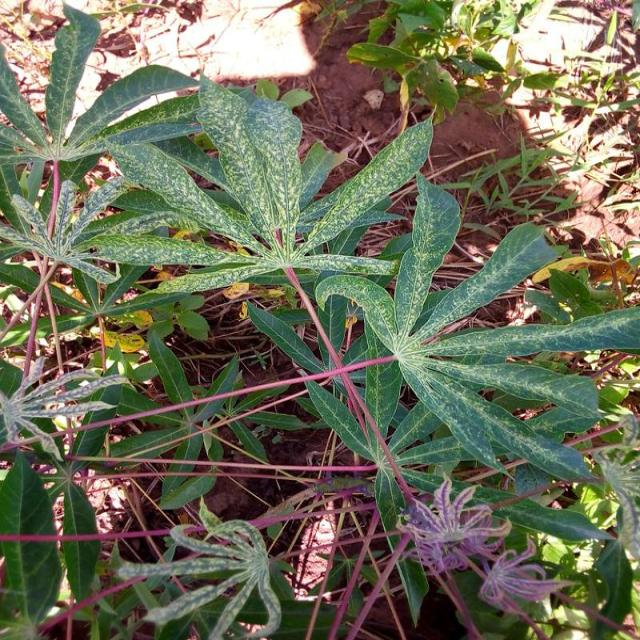cassava leaf: (2, 4, 638, 637), (197, 68, 305, 256), (301, 113, 436, 255)
